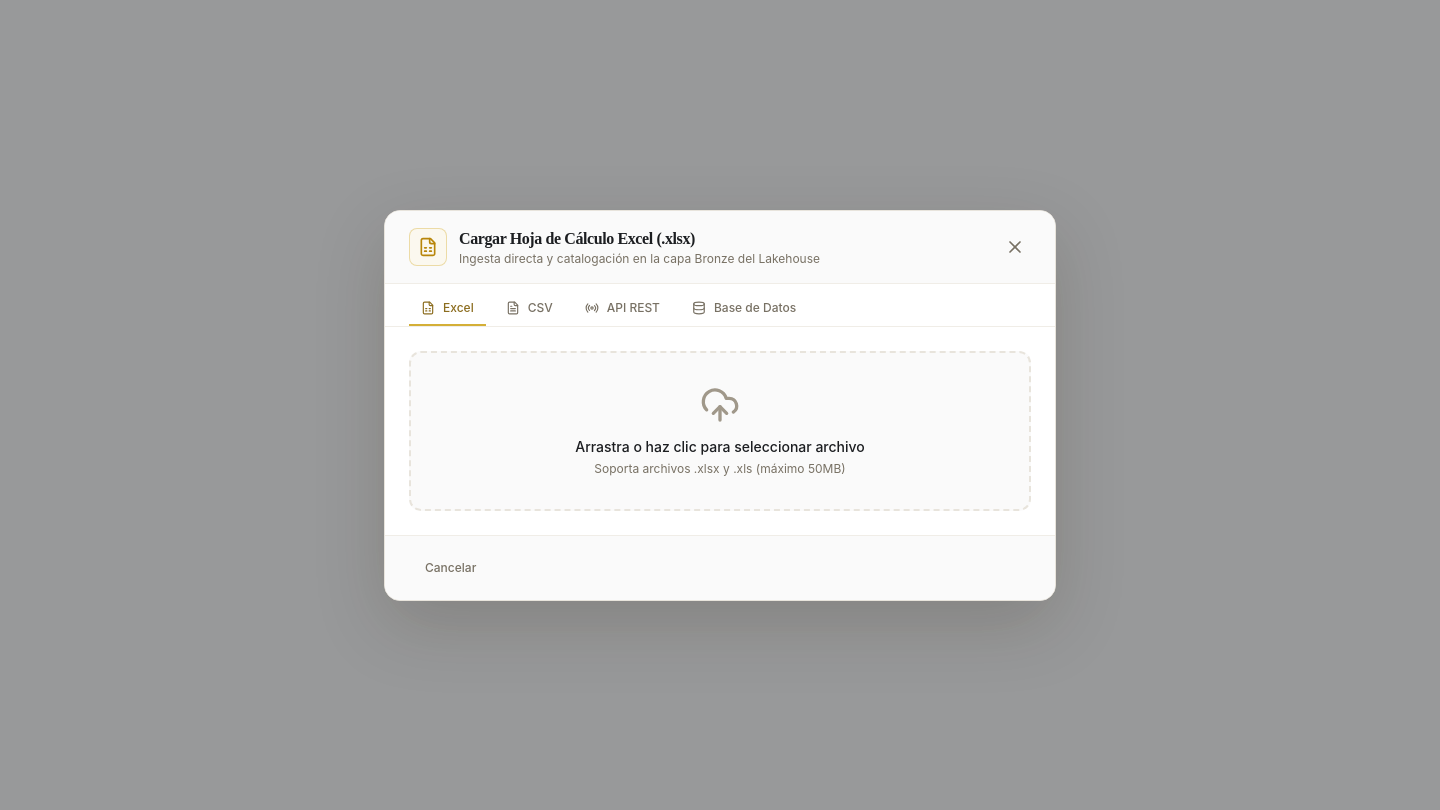
Test: HU-FRONT-07 — Workspace Conversacional Multi-Sesión & Welcome Hub › 2. QuickConnectionModal — Modal de Conexión de Fuentes › permite alternar pestañas entre Excel, CSV, API REST y Base de Datos
The image size is (1440, 810).
Click the button "API REST" at (622, 308), box [573,292,672,326]
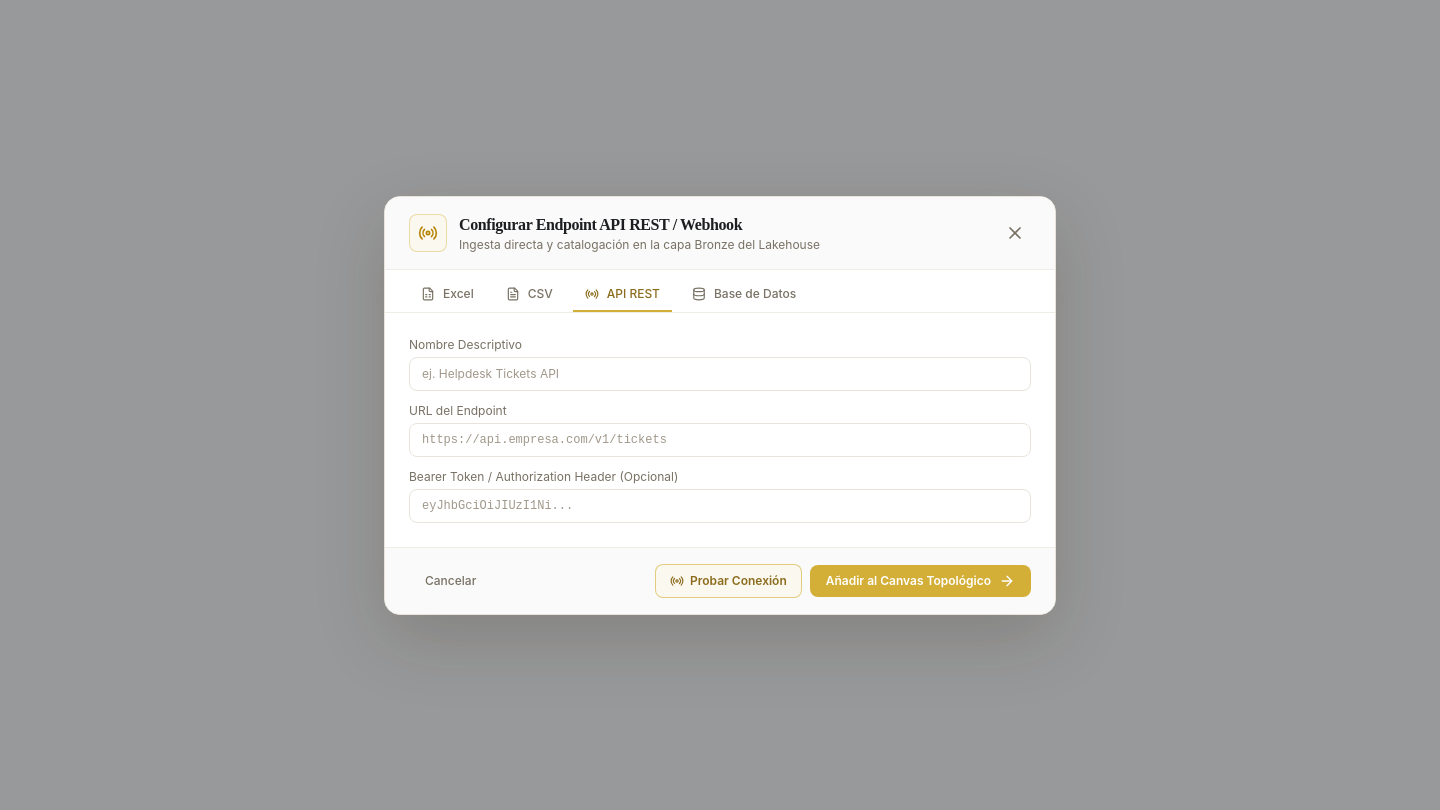
Check: the text "URL del Endpoint" is shown, box [409,402,507,418]
Click the button "Base de Datos" at (744, 294), box [680,278,808,312]
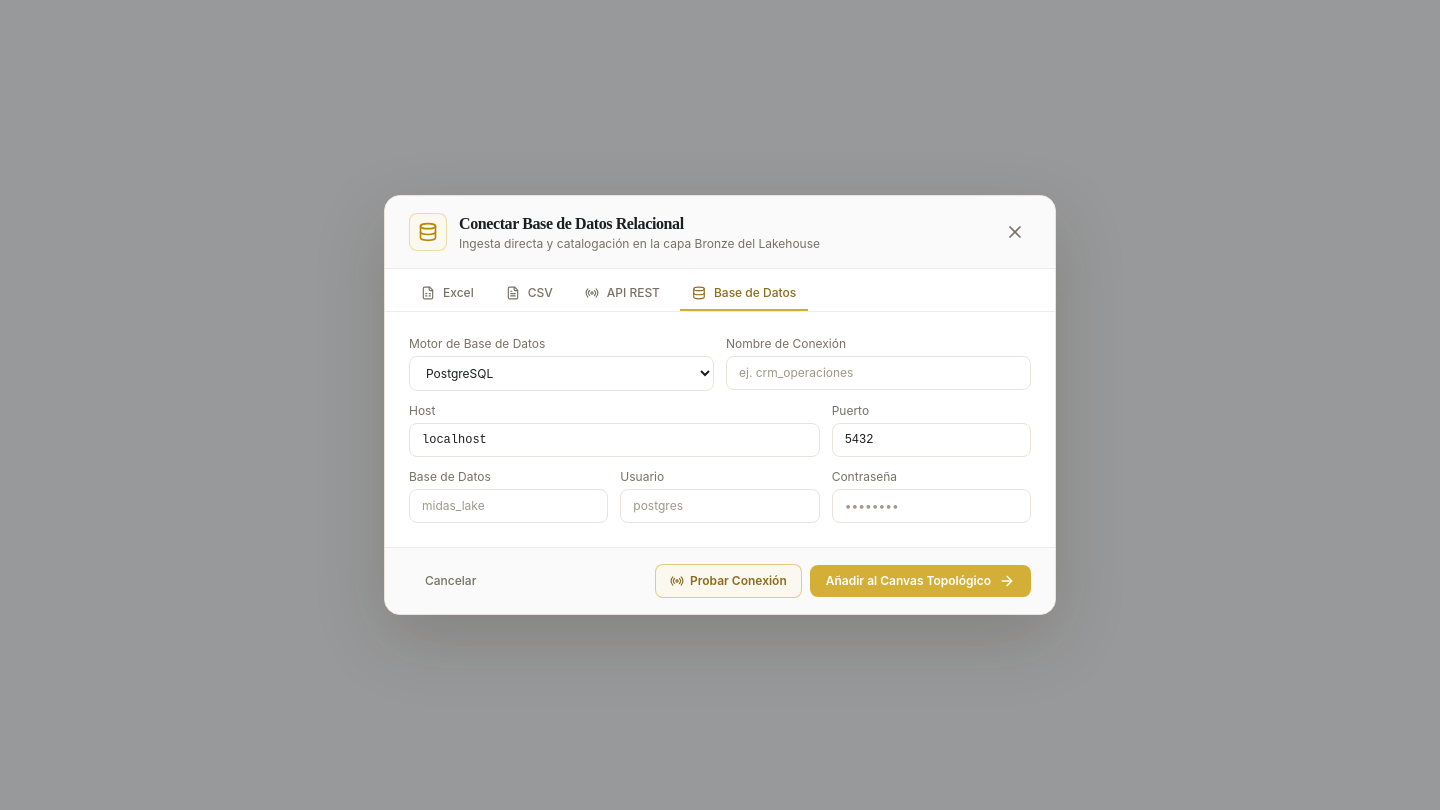
Check: the text "Motor de Base de Datos" is shown, box [409,336,545,351]
